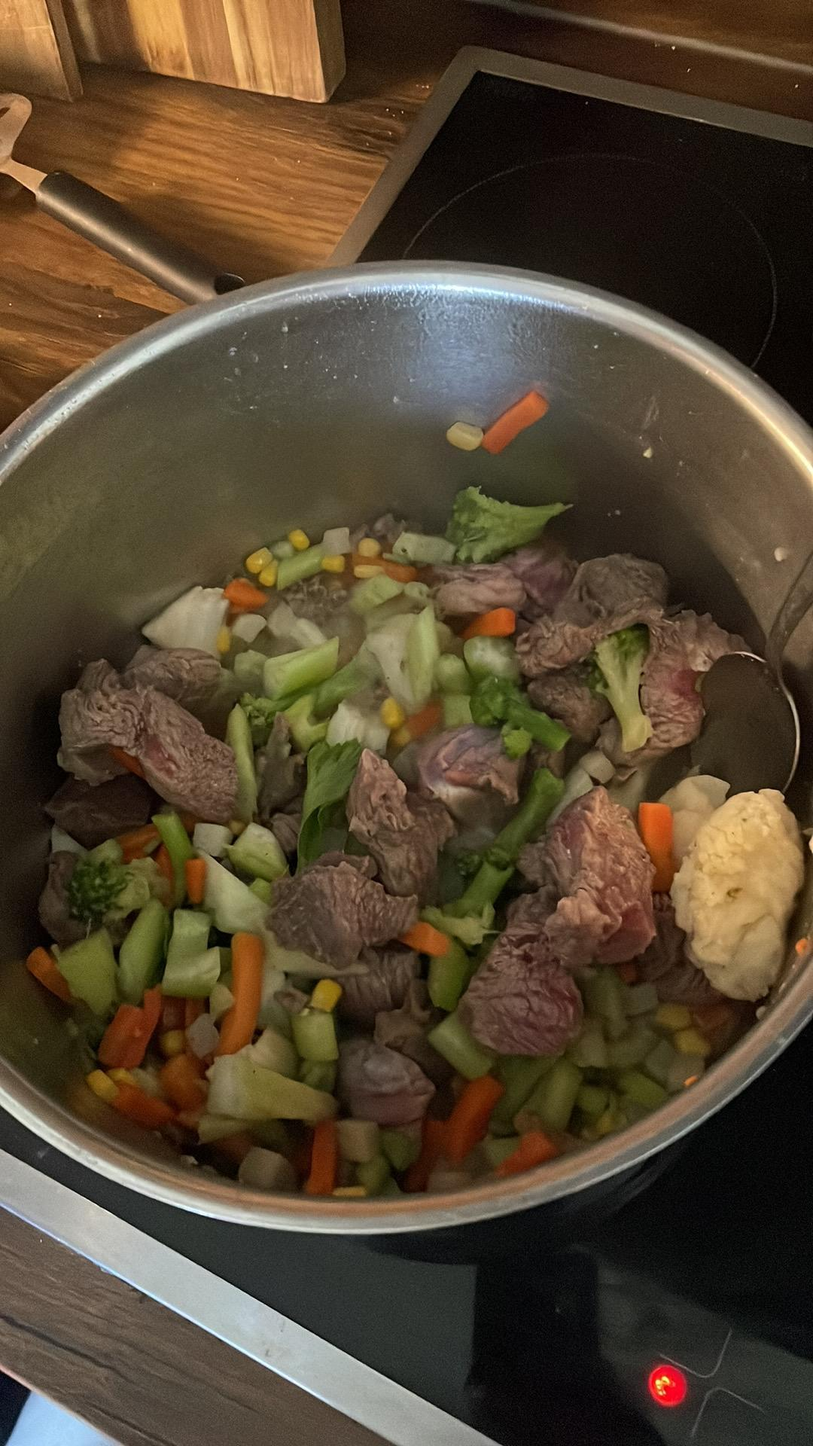broccoli: (435, 480, 572, 561), (464, 664, 569, 750), (589, 631, 658, 754), (59, 842, 131, 924)
carrot: (217, 931, 268, 1057), (445, 1069, 500, 1164), (99, 994, 163, 1065), (482, 392, 551, 452), (637, 796, 685, 881), (300, 1123, 341, 1199), (26, 942, 65, 993), (404, 920, 451, 959), (467, 606, 518, 636)
cauliflower: (676, 785, 796, 1007)
corn: (657, 1004, 716, 1065), (87, 1062, 138, 1097), (245, 546, 282, 585), (446, 422, 484, 451), (313, 975, 342, 1009), (162, 1026, 190, 1058), (376, 697, 404, 728), (289, 525, 314, 551), (352, 562, 384, 579), (215, 627, 236, 651), (320, 554, 347, 572), (361, 536, 382, 556)
